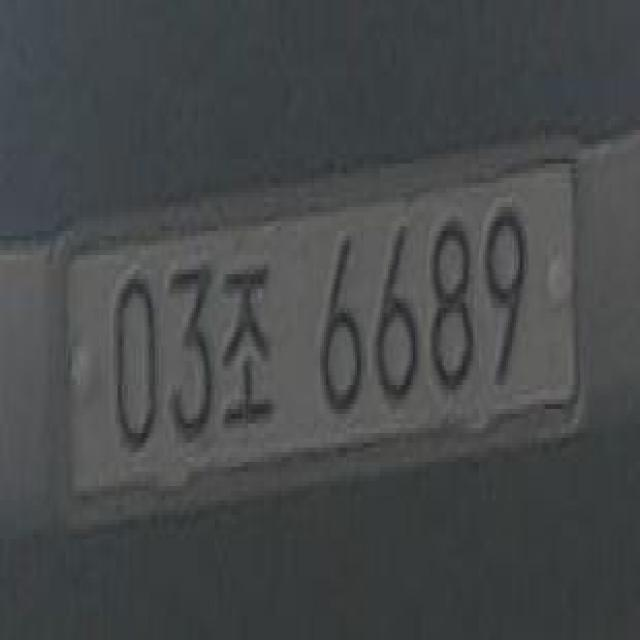illegal_plate: (60, 162, 578, 510)
